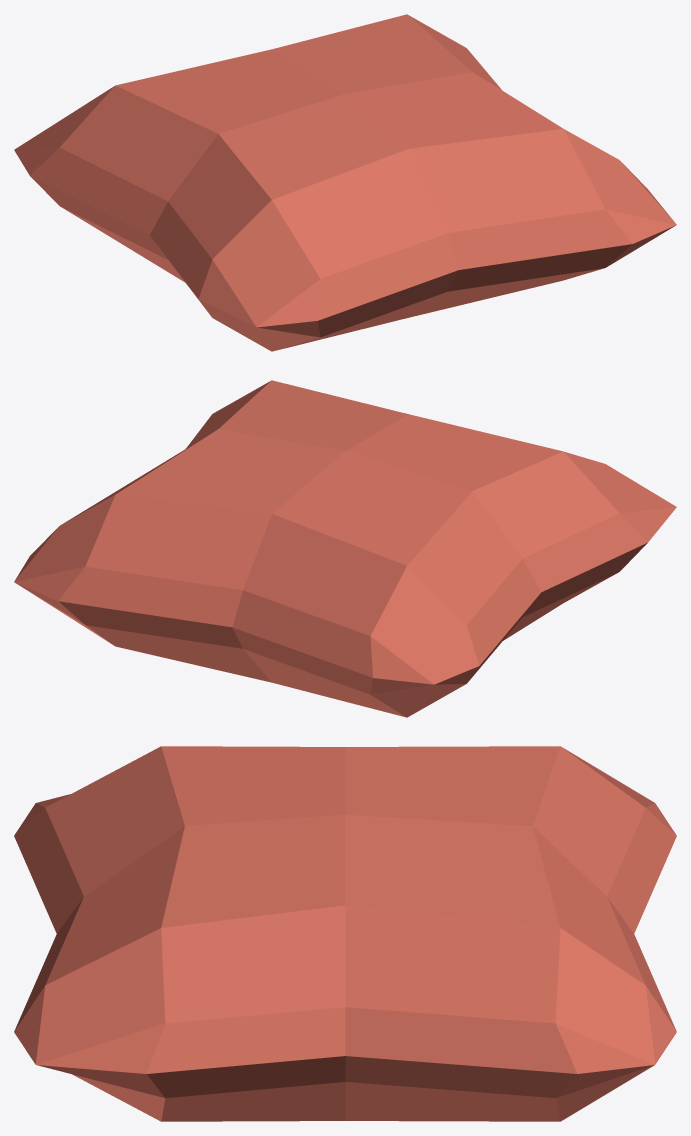
Rendered from SM_Prop_Cushion_01.obj.
The picture shows the model from 3 angles, top to bottom: view 1: azimuth 30°, elevation 25°; view 2: azimuth 150°, elevation 25°; view 3: azimuth 270°, elevation 25°; orthographic projection. The views are drawn at different scales.
Parts seen in each view (by area): view 1: SM_Prop_Cushion_01_0; view 2: SM_Prop_Cushion_01_0; view 3: SM_Prop_Cushion_01_0.
Part boxes in pixels (box(x1,y1,x2,y2)): SM_Prop_Cushion_01_0: box(14, 14, 676, 351); SM_Prop_Cushion_01_0: box(14, 380, 676, 717); SM_Prop_Cushion_01_0: box(14, 746, 676, 1121).
Size of the model in its own units: 0.5396 by 0.2142 by 0.5396.
Materials: 1 (1 with a texture image).
